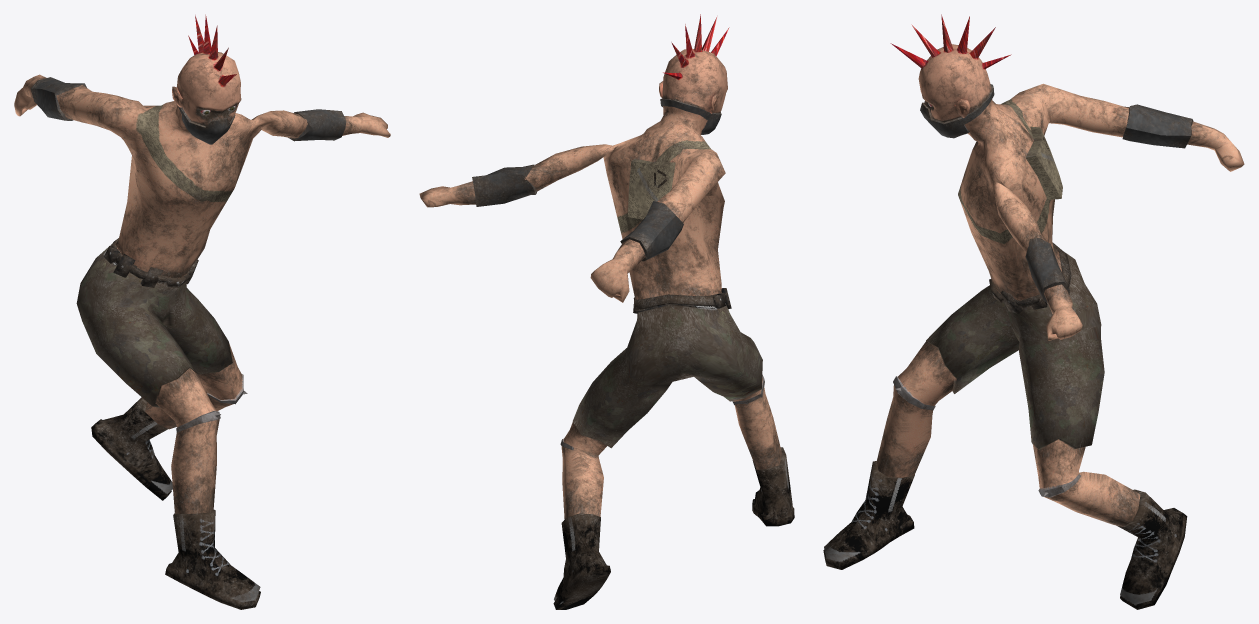
Rendered from Anim_arma_c_npc2.0030.obj.
The picture shows the model from 3 angles, left to right: view 1: azimuth 30°, elevation 25°; view 2: azimuth 150°, elevation 25°; view 3: azimuth 270°, elevation 25°; orthographic projection. The views are drawn at different scales.
Parts seen in each view (by area): view 1: polySurface1; view 2: polySurface1; view 3: polySurface1.
Part boxes in pixels (x1,y1,x2,y2): polySurface1: (14, 14, 390, 609); polySurface1: (419, 14, 794, 609); polySurface1: (823, 14, 1244, 609).
Size of the model in its own units: 5.54 by 9.22 by 6.13.
